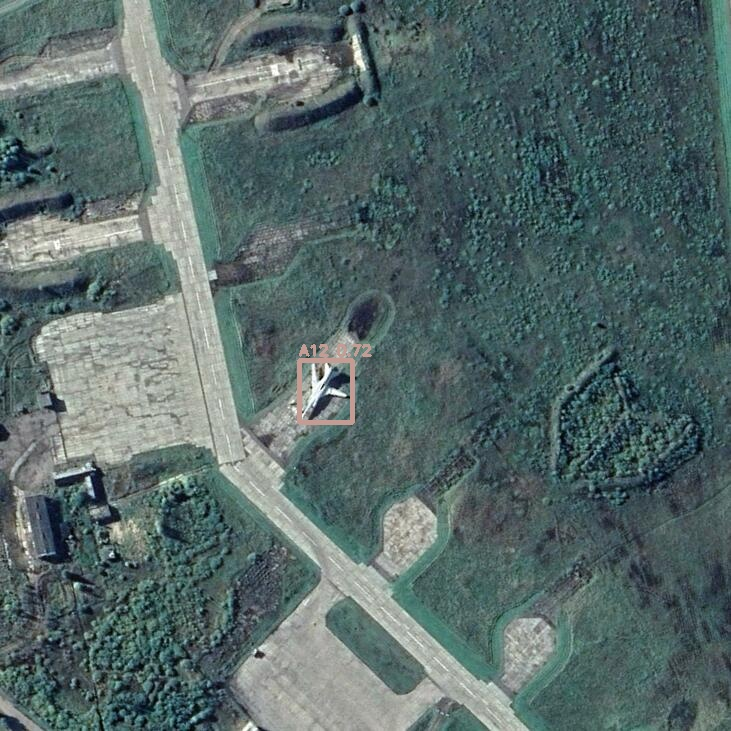A12: (299, 360, 352, 422)
